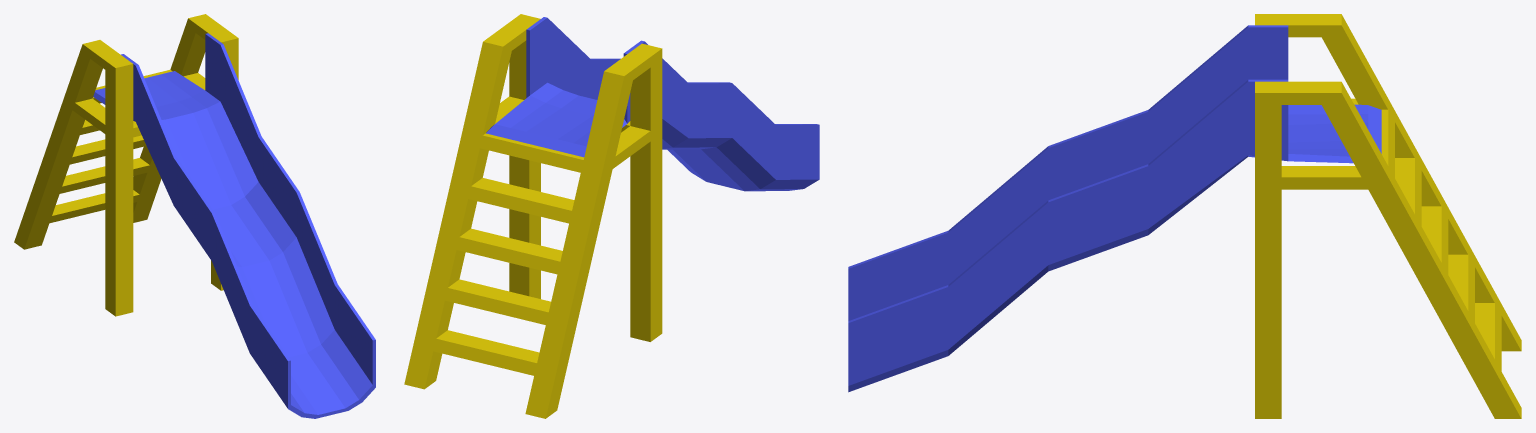
The model's file is play_slide.glb.
3 renders of one model, left to right at view 1: azimuth 30°, elevation 25°; view 2: azimuth 150°, elevation 25°; view 3: azimuth 270°, elevation 25°, orthographic. The views are drawn at different scales.
Parts seen in each view (by area): view 1: slide; view 2: slide; view 3: slide.
Part boxes in pixels (x1=…): slide: x1=14, y1=14, x2=375, y2=418; slide: x1=404, y1=14, x2=819, y2=418; slide: x1=848, y1=14, x2=1521, y2=418.
Size of the model in its own units: 1.14 by 2.2 by 4.11.
